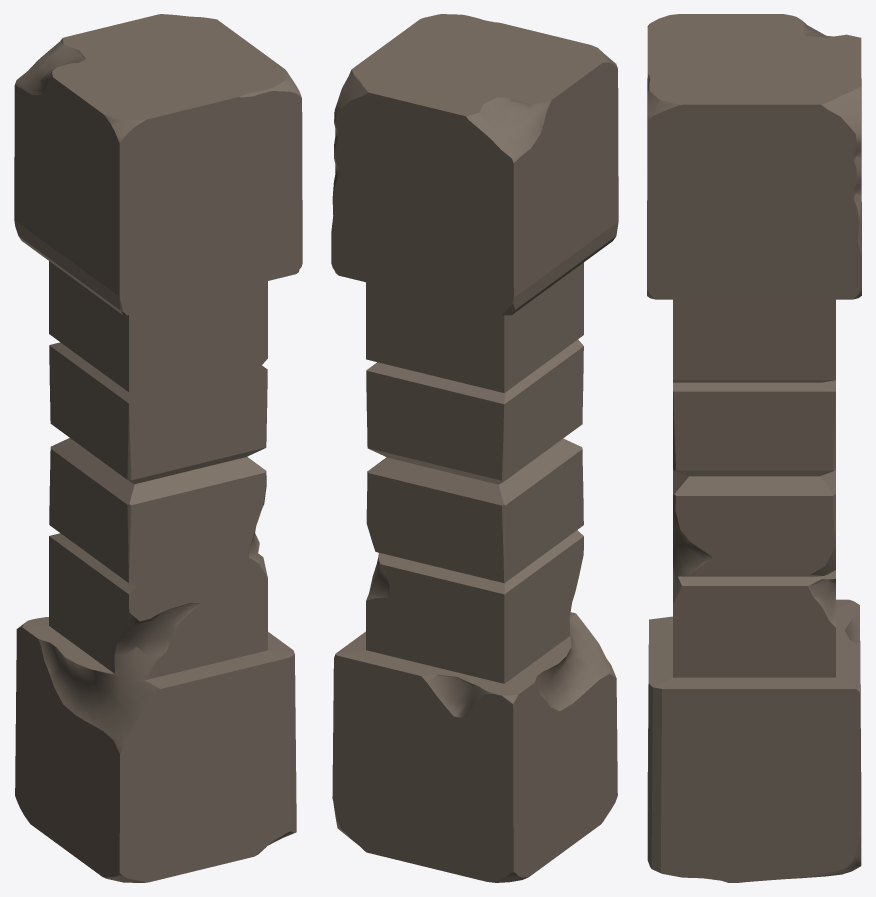
The model's file is collon-1.fbx.
The picture shows the model from 3 angles, left to right: view 1: azimuth 30°, elevation 25°; view 2: azimuth 150°, elevation 25°; view 3: azimuth 270°, elevation 25°; orthographic projection. The views are drawn at different scales.
Parts seen in each view (by area): view 1: Cube.003_dmg; view 2: Cube.003_dmg; view 3: Cube.003_dmg.
Part boxes in pixels (box(x1,y1,x2,y2)): Cube.003_dmg: box(14, 14, 302, 882); Cube.003_dmg: box(331, 14, 618, 882); Cube.003_dmg: box(647, 14, 861, 882).
Size of the model in its own units: 100 by 400 by 100.
